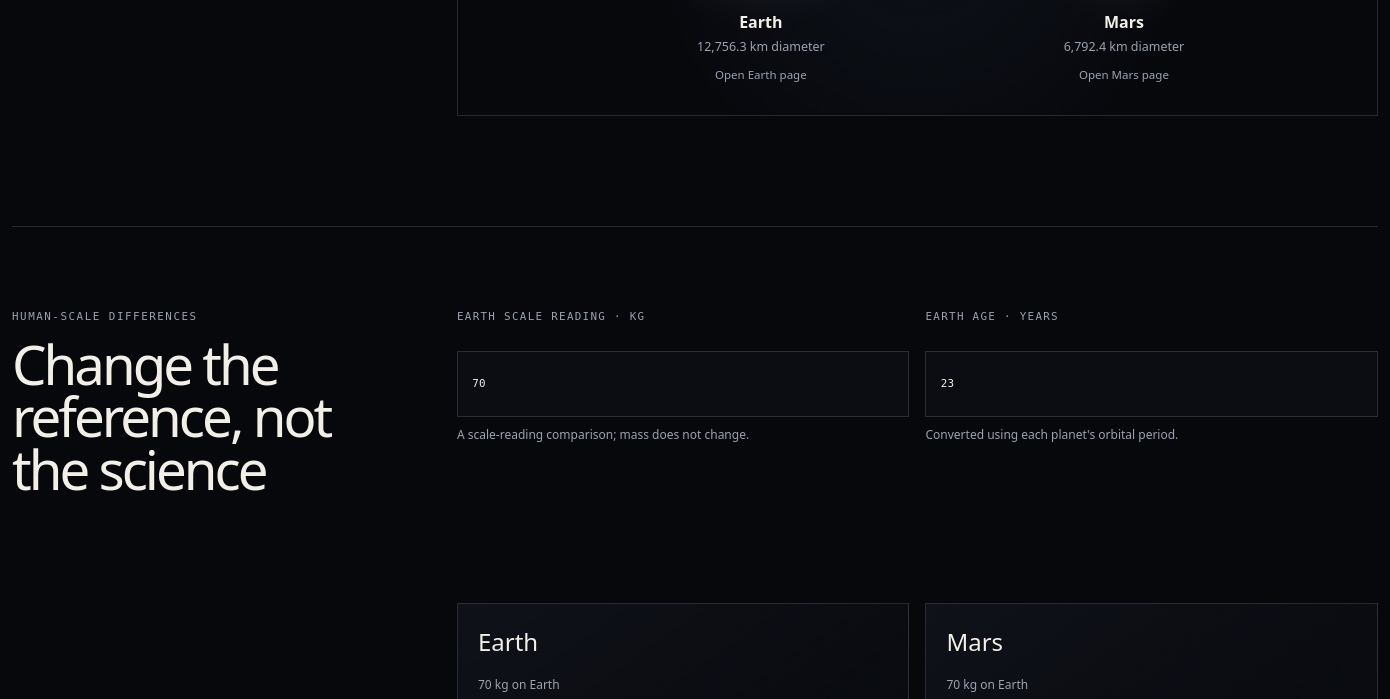
Scenario: CompareExperience › announces invalid personal inputs instead of silently hiding results
The width and height of the screenshot is (1390, 699).
(page scrolled)
Replace the text in the number field labelled "Earth scale reading" with "-1" at [683, 384], box [457, 351, 910, 417]
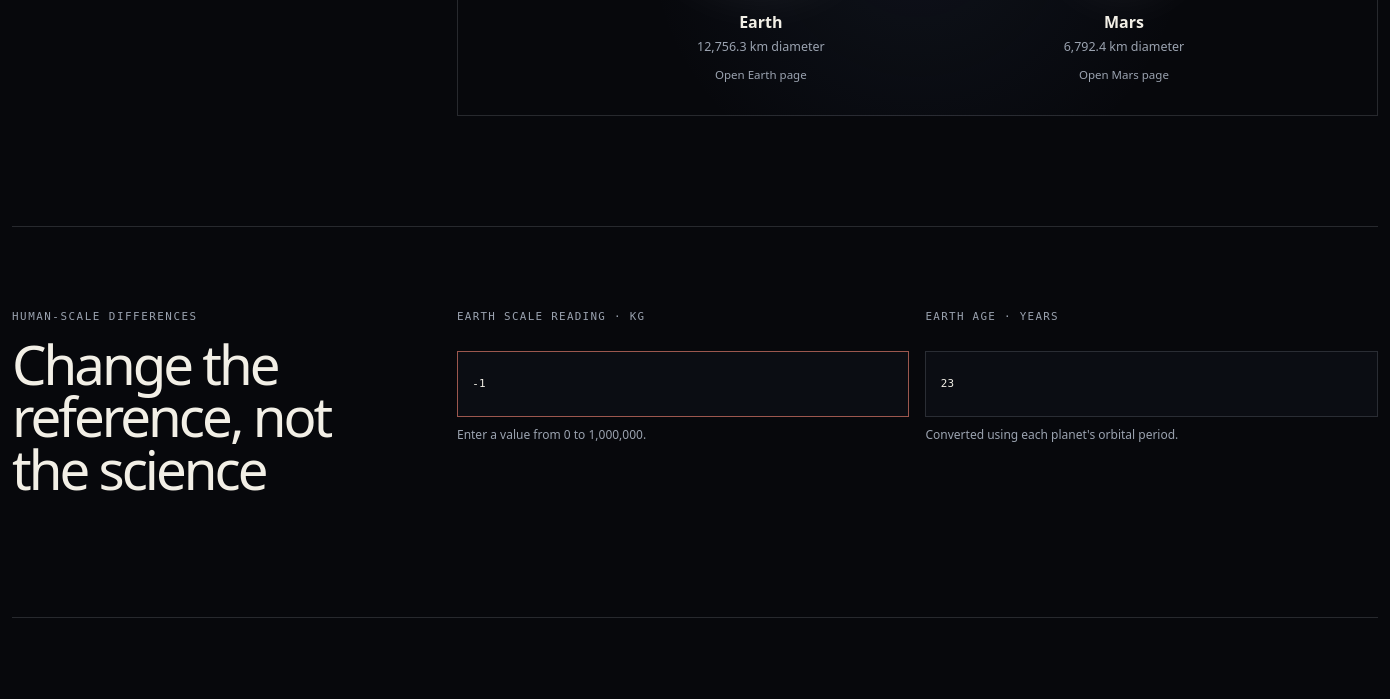
Expected: the message reads "Enter a value from 0 to 1,000,000.", [457, 426, 646, 443]
